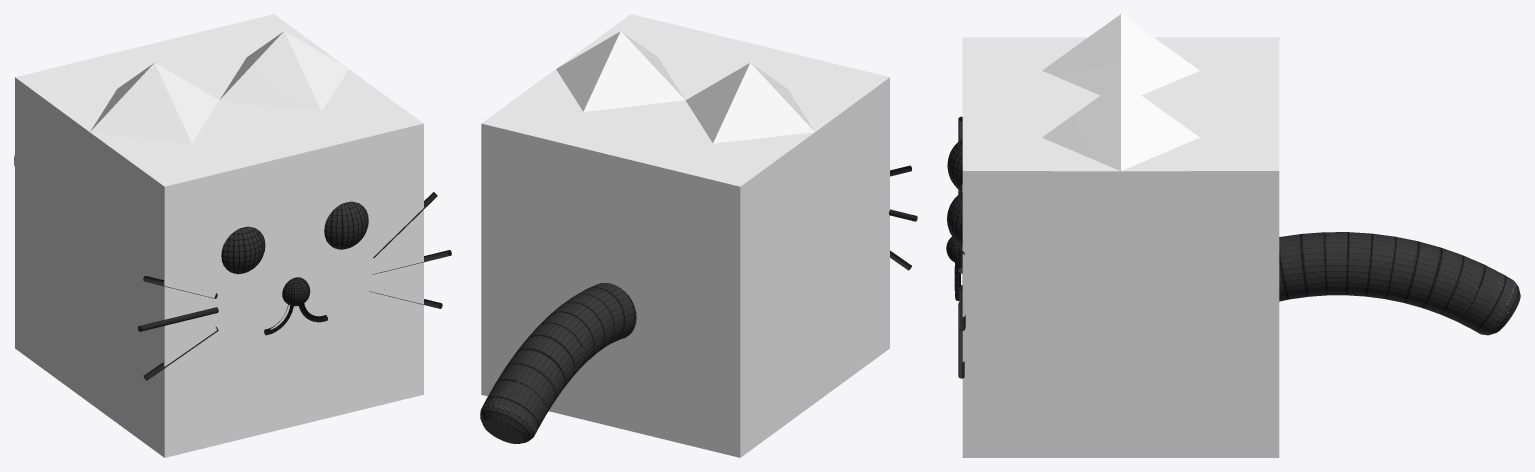
Rendered from player.obj.
3 renders of one model, left to right at view 1: azimuth 30°, elevation 25°; view 2: azimuth 150°, elevation 25°; view 3: azimuth 270°, elevation 25°, orthographic. The views are drawn at different scales.
Visible parts, largest first — view 1: 円柱; view 2: 円柱; view 3: 円柱.
Boxes of the visible parts, <box> form: 円柱: <box>14,14,451,457</box>; 円柱: <box>480,14,917,457</box>; 円柱: <box>946,14,1520,457</box>.
Size of the model in its own units: 1.8 by 1.8 by 2.72.
